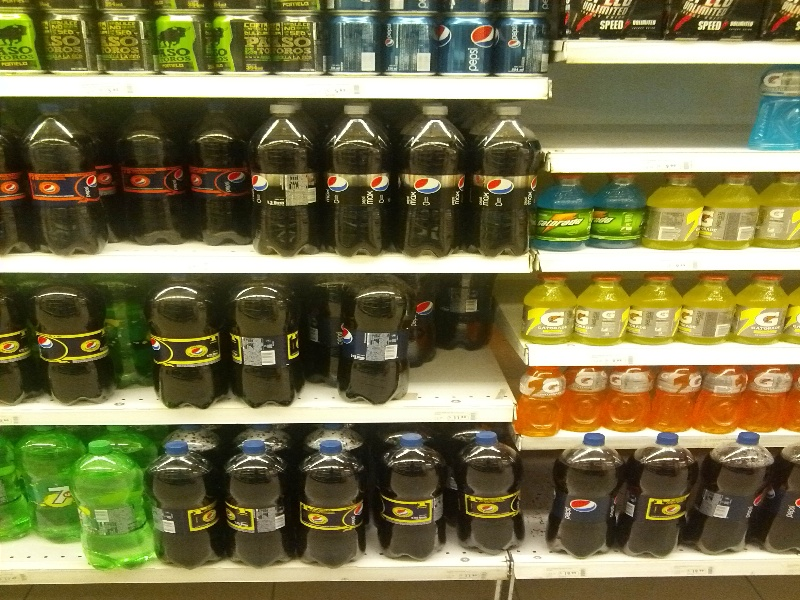lemonade: (18, 98, 119, 259), (240, 105, 325, 258), (68, 441, 164, 571), (214, 437, 298, 576), (322, 105, 396, 257), (372, 432, 457, 564), (33, 275, 115, 408), (396, 101, 466, 256), (337, 274, 410, 407), (688, 435, 768, 552), (297, 437, 367, 566), (472, 104, 533, 251), (459, 430, 530, 555), (546, 433, 617, 557), (621, 434, 689, 558)
